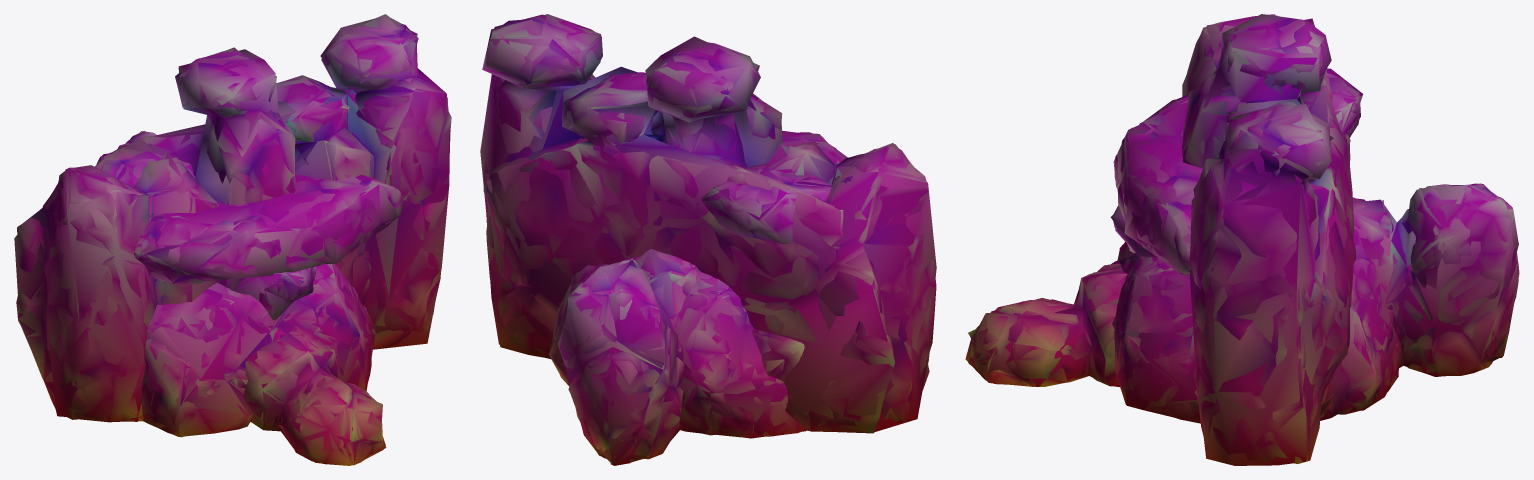
File: natur_felsen.glb
3 renders of one model, left to right at view 1: azimuth 30°, elevation 25°; view 2: azimuth 150°, elevation 25°; view 3: azimuth 270°, elevation 25°, orthographic. The views are drawn at different scales.
Parts seen in each view (by area): view 1: Wand_0, Wand_1, Wand_2, Ueberhang_0, Kuppe_0, Kuppe_1, Kuppe_2, Rippe_0, Ueberhang_1, Ueberhang_2, Rippe_1, Rippe_2 (+3 smaller); view 2: Wand_0, Wand_1, Wand_2, Rippe_0, Rippe_1, Kuppe_0, Rippe_2, Kuppe_1, Kuppe_2, Ueberhang_0, Ueberhang_1, Ueberhang_2; view 3: Wand_0, Wand_1, Wand_2, Rippe_0, Rippe_1, Rippe_2, Kuppe_0, Kuppe_1, Kuppe_2, Ueberhang_0, Ueberhang_2, Ueberhang_1.
Boxes of the visible parts, bbox=[...] form: Wand_0: bbox=[16, 14, 451, 421]; Wand_1: bbox=[17, 18, 449, 422]; Wand_2: bbox=[14, 18, 449, 421]; Ueberhang_0: bbox=[96, 145, 402, 283]; Kuppe_0: bbox=[141, 264, 376, 437]; Kuppe_1: bbox=[141, 264, 373, 436]; Kuppe_2: bbox=[143, 264, 374, 436]; Rippe_0: bbox=[117, 131, 385, 465]; Ueberhang_1: bbox=[98, 145, 399, 283]; Ueberhang_2: bbox=[101, 151, 398, 283]; Rippe_1: bbox=[120, 131, 386, 465]; Rippe_2: bbox=[125, 131, 383, 465]; Wand_0: bbox=[482, 14, 936, 431]; Wand_1: bbox=[481, 15, 935, 433]; Wand_2: bbox=[480, 14, 936, 432]; Rippe_0: bbox=[558, 249, 696, 465]; Rippe_1: bbox=[558, 249, 691, 465]; Kuppe_0: bbox=[549, 257, 804, 437]; Rippe_2: bbox=[560, 249, 685, 463]; Kuppe_1: bbox=[549, 264, 801, 436]; Kuppe_2: bbox=[550, 278, 806, 438]; Ueberhang_0: bbox=[702, 131, 839, 381]; Ueberhang_1: bbox=[555, 133, 844, 372]; Ueberhang_2: bbox=[701, 130, 847, 371]; Wand_0: bbox=[1182, 14, 1355, 463]; Wand_1: bbox=[1182, 14, 1354, 461]; Wand_2: bbox=[1181, 15, 1350, 465]; Rippe_0: bbox=[968, 183, 1518, 387]; Rippe_1: bbox=[965, 183, 1519, 386]; Rippe_2: bbox=[966, 185, 1516, 386]; Kuppe_0: bbox=[1112, 198, 1401, 423]; Kuppe_1: bbox=[1114, 198, 1399, 420]; Kuppe_2: bbox=[1114, 197, 1398, 418]; Ueberhang_0: bbox=[1114, 69, 1360, 416]; Ueberhang_2: bbox=[1113, 68, 1363, 415]; Ueberhang_1: bbox=[1113, 77, 1360, 417].
Size of the model in its own units: 8.98 by 6.52 by 9.71.
